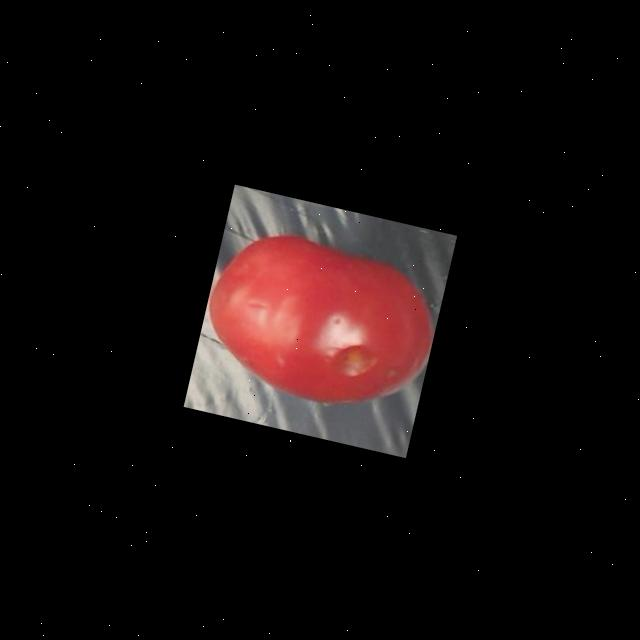tomato: (190, 214, 450, 424)
